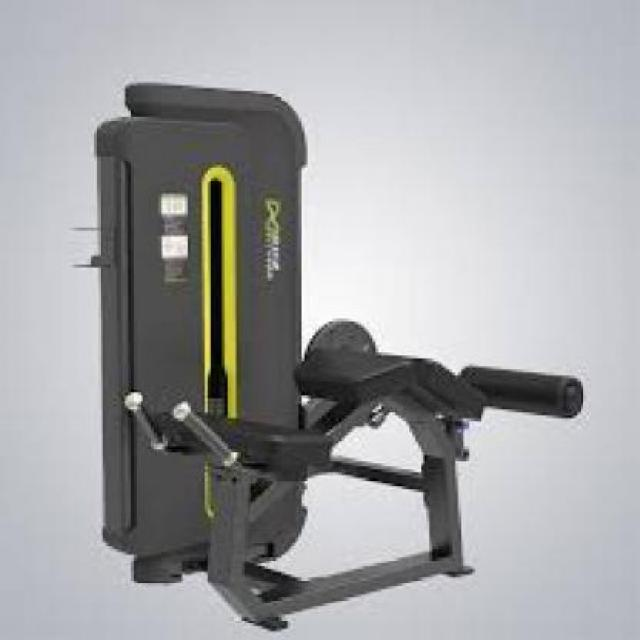reg curl machine: (72, 75, 591, 634)
